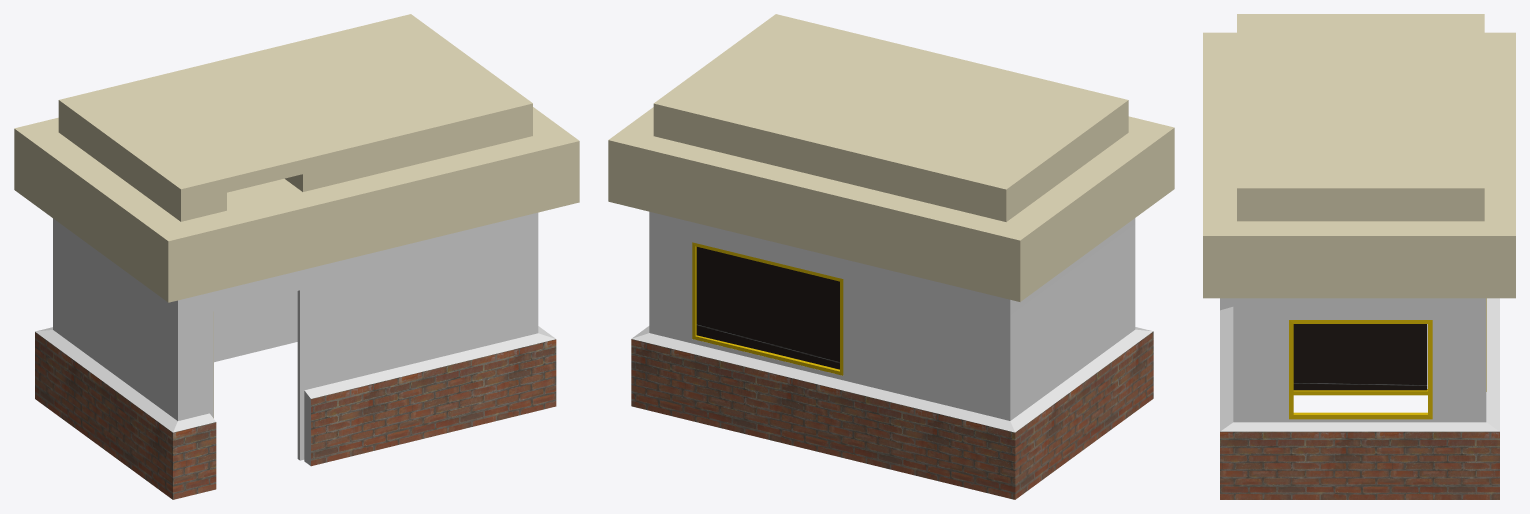
The model's file is TolBooth 1.fbx.
3 renders of one model, left to right at view 1: azimuth 30°, elevation 25°; view 2: azimuth 150°, elevation 25°; view 3: azimuth 270°, elevation 25°, orthographic.
Parts seen in each view (by area): view 1: TolBooth; view 2: TolBooth; view 3: TolBooth.
Boxes of the visible parts, <box> form: TolBooth: <box>14,14,579,499</box>; TolBooth: <box>608,14,1174,499</box>; TolBooth: <box>1203,14,1515,499</box>.
Size of the model in its own units: 5.71 by 3.98 by 3.71.
5 materials, 2 textured.
